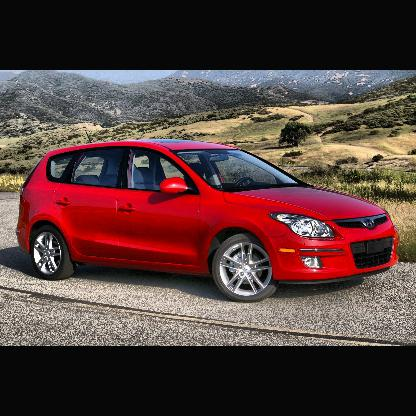Hyundai Elantra Touring Hatchback 2012: (17, 140, 402, 305)
